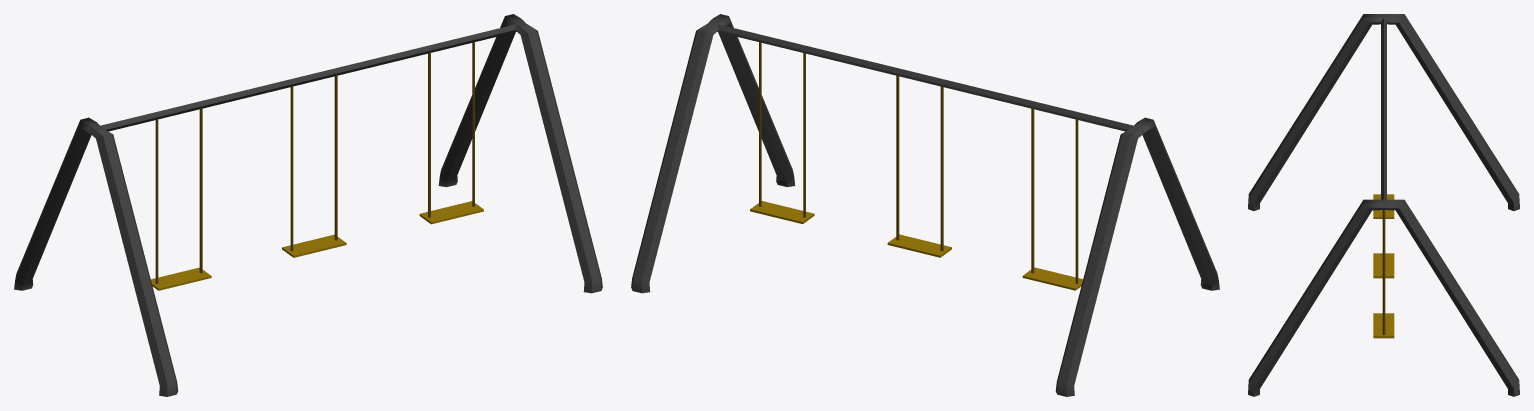
File: Swingset.fbx
3 renders of one model, left to right at view 1: azimuth 30°, elevation 25°; view 2: azimuth 150°, elevation 25°; view 3: azimuth 270°, elevation 25°, orthographic. The views are drawn at different scales.
Visible parts, largest first — view 1: pCylinder8; view 2: pCylinder8; view 3: pCylinder8.
Part boxes in pixels (x1=…): pCylinder8: x1=14, y1=14, x2=602, y2=396; pCylinder8: x1=631, y1=14, x2=1219, y2=396; pCylinder8: x1=1248, y1=14, x2=1519, y2=396.
Size of the model in its own units: 23.26 by 10.7 by 13.76.
